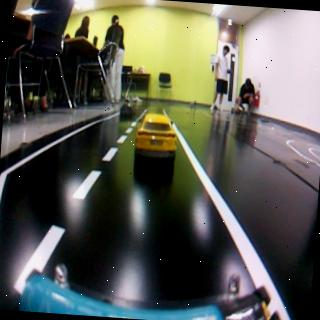car: (134, 111, 177, 160)
